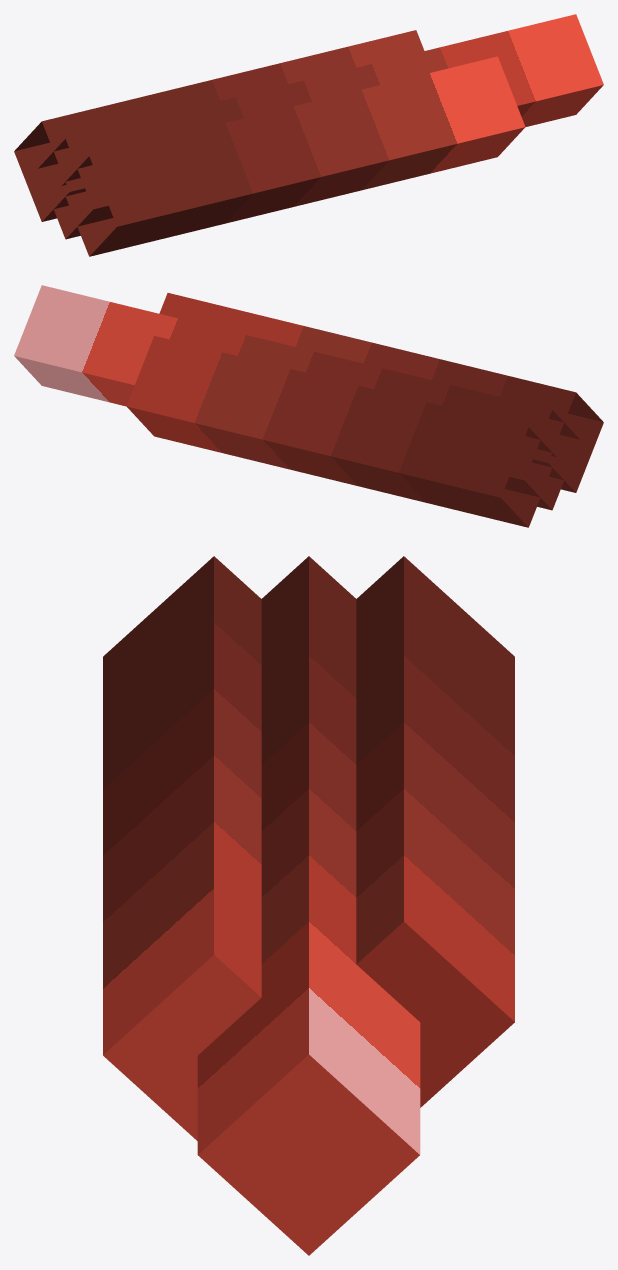
The model's file is signalite_spike.obj.
The picture shows the model from 3 angles, top to bottom: view 1: azimuth 30°, elevation 25°; view 2: azimuth 150°, elevation 25°; view 3: azimuth 270°, elevation 25°; orthographic projection. The views are drawn at different scales.
Parts seen in each view (by area): view 1: SPIKE_Cube.004; view 2: SPIKE_Cube.004; view 3: SPIKE_Cube.004.
Boxes of the visible parts, <box> form: SPIKE_Cube.004: <box>14,14,603,256</box>; SPIKE_Cube.004: <box>14,285,603,527</box>; SPIKE_Cube.004: <box>103,556,514,1255</box>.
Size of the model in its own units: 0.4688 by 0.0884 by 0.1638.
